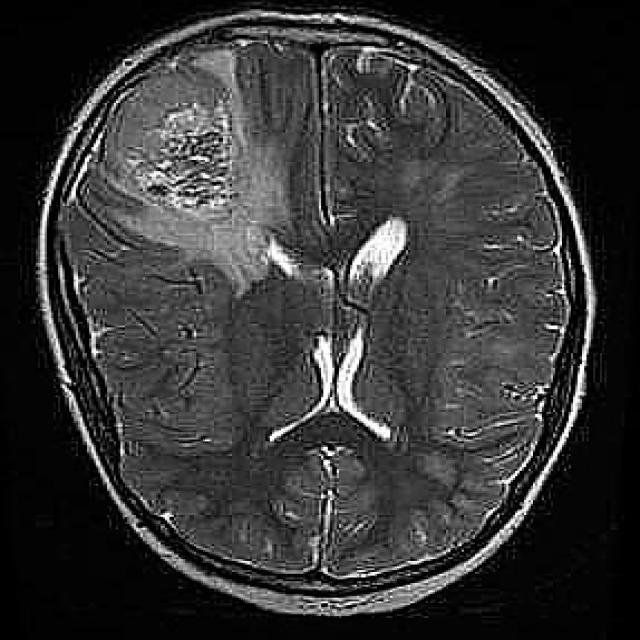Tumor-Cell: (80, 62, 286, 246)
